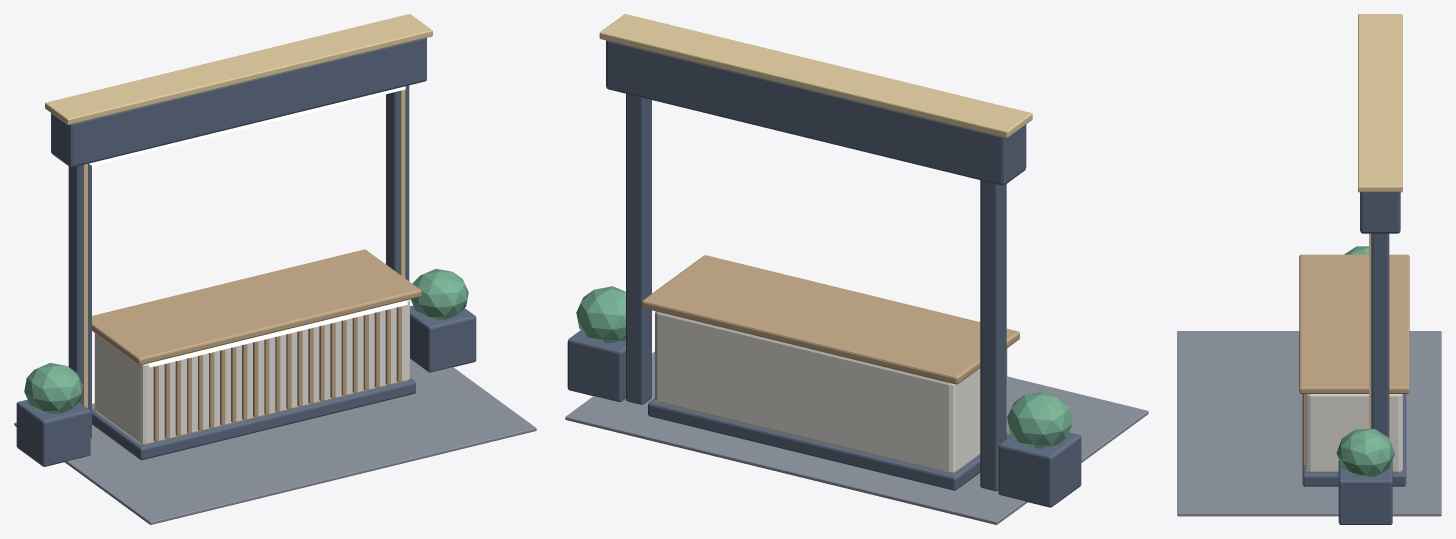
Rendered from welcome_desk_v27_4.glb.
3 views of the same model, side by side, from view 1: azimuth 30°, elevation 25°; view 2: azimuth 150°, elevation 25°; view 3: azimuth 270°, elevation 25° (orthographic). The views are drawn at different scales.
Parts seen in each view (by area): view 1: PlazaMat_ArchNavy, PlazaMat_StandingRug, PlazaMat_FlutedOak, PlazaMat_TravertineDesk, PlazaMat_ChampagneBrass, PlazaMat_PlanterLeaf, PlazaMat_WarmDownlight; view 2: PlazaMat_ArchNavy, PlazaMat_TravertineDesk, PlazaMat_FlutedOak, PlazaMat_StandingRug, PlazaMat_ChampagneBrass, PlazaMat_PlanterLeaf; view 3: PlazaMat_StandingRug, PlazaMat_FlutedOak, PlazaMat_ArchNavy, PlazaMat_ChampagneBrass, PlazaMat_TravertineDesk, PlazaMat_PlanterLeaf.
Boxes of the visible parts, left/top/right/bottom form: PlazaMat_ArchNavy: left=16, top=37, right=476, bottom=466; PlazaMat_StandingRug: left=14, top=359, right=536, bottom=524; PlazaMat_FlutedOak: left=92, top=249, right=421, bottom=441; PlazaMat_TravertineDesk: left=94, top=299, right=409, bottom=445; PlazaMat_ChampagneBrass: left=45, top=14, right=432, bottom=408; PlazaMat_PlanterLeaf: left=24, top=268, right=468, bottom=413; PlazaMat_WarmDownlight: left=89, top=86, right=407, bottom=367; PlazaMat_ArchNavy: left=567, top=40, right=1081, bottom=507; PlazaMat_TravertineDesk: left=655, top=311, right=1007, bottom=474; PlazaMat_FlutedOak: left=642, top=255, right=1019, bottom=384; PlazaMat_StandingRug: left=565, top=351, right=1148, bottom=524; PlazaMat_ChampagneBrass: left=599, top=14, right=1032, bottom=137; PlazaMat_PlanterLeaf: left=576, top=286, right=1072, bottom=448; PlazaMat_StandingRug: left=1177, top=331, right=1441, bottom=516; PlazaMat_FlutedOak: left=1299, top=254, right=1409, bottom=464; PlazaMat_ArchNavy: left=1302, top=192, right=1406, bottom=524; PlazaMat_ChampagneBrass: left=1358, top=14, right=1402, bottom=428; PlazaMat_TravertineDesk: left=1306, top=394, right=1402, bottom=473; PlazaMat_PlanterLeaf: left=1336, top=246, right=1394, bottom=476.
Bounding box in the file's own units: 4.33 × 3.19 × 2.35.
